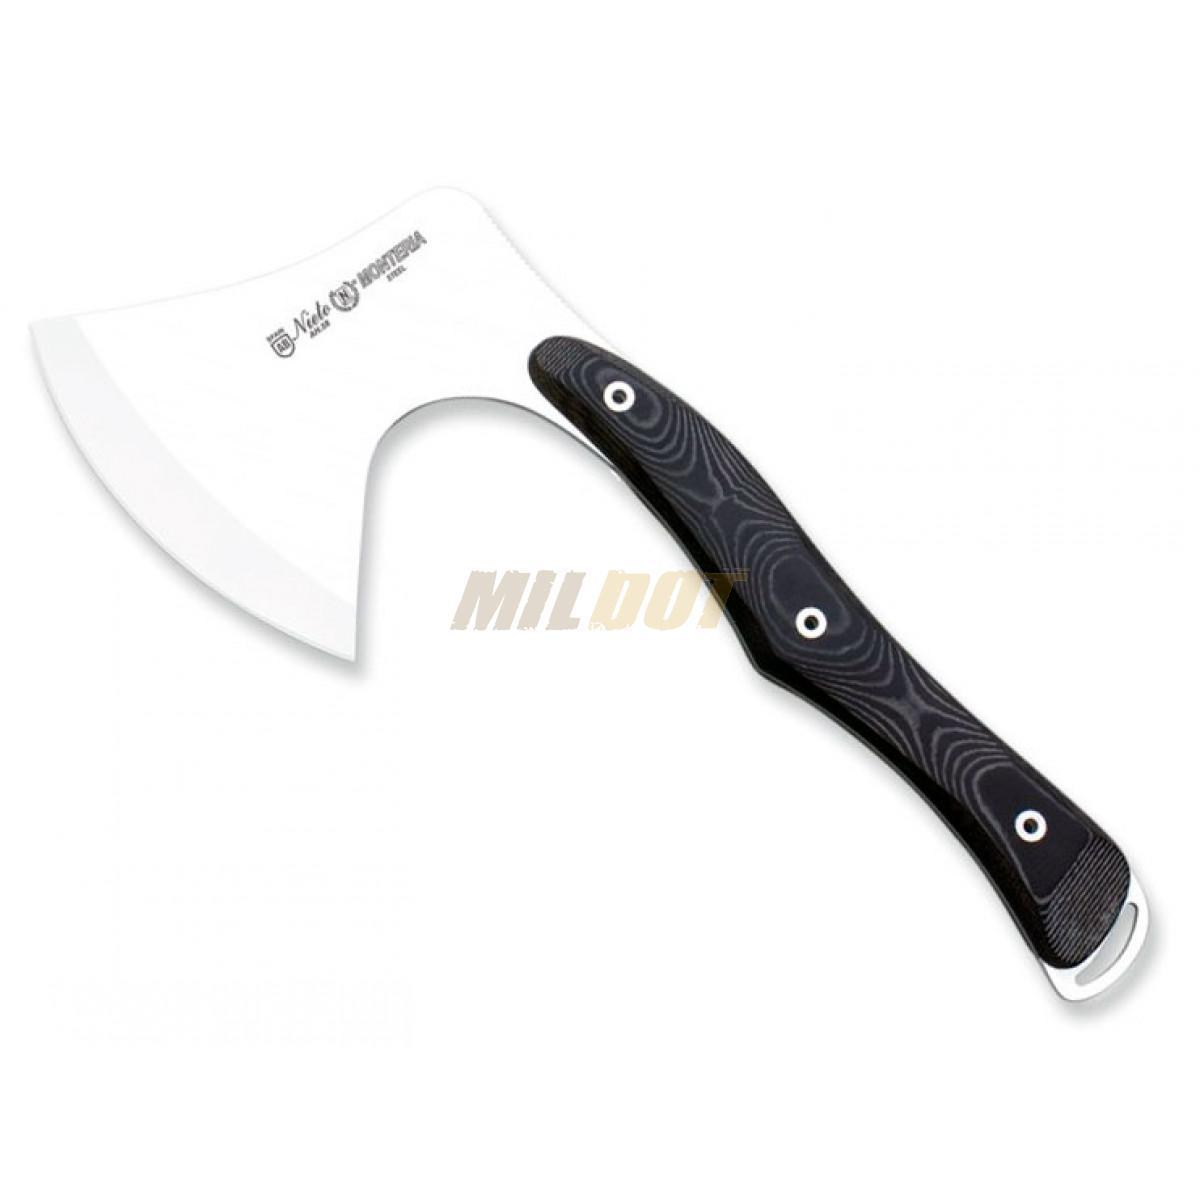machado: (34, 189, 1146, 1000)
